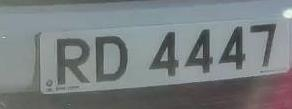4: (144, 25, 184, 83), (180, 22, 217, 81), (214, 21, 252, 78)
7: (248, 19, 285, 74)
D: (89, 31, 133, 88)
R: (52, 32, 97, 90)
